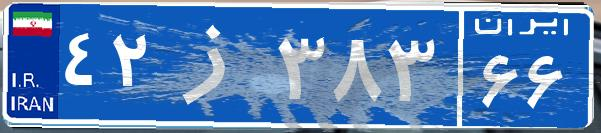2: (110, 28, 158, 105)
3: (385, 28, 445, 110), (273, 28, 330, 110)
4: (57, 26, 110, 107)
6: (475, 38, 525, 113), (525, 38, 570, 115)
8: (330, 28, 385, 110)
ز: (158, 15, 273, 115)
